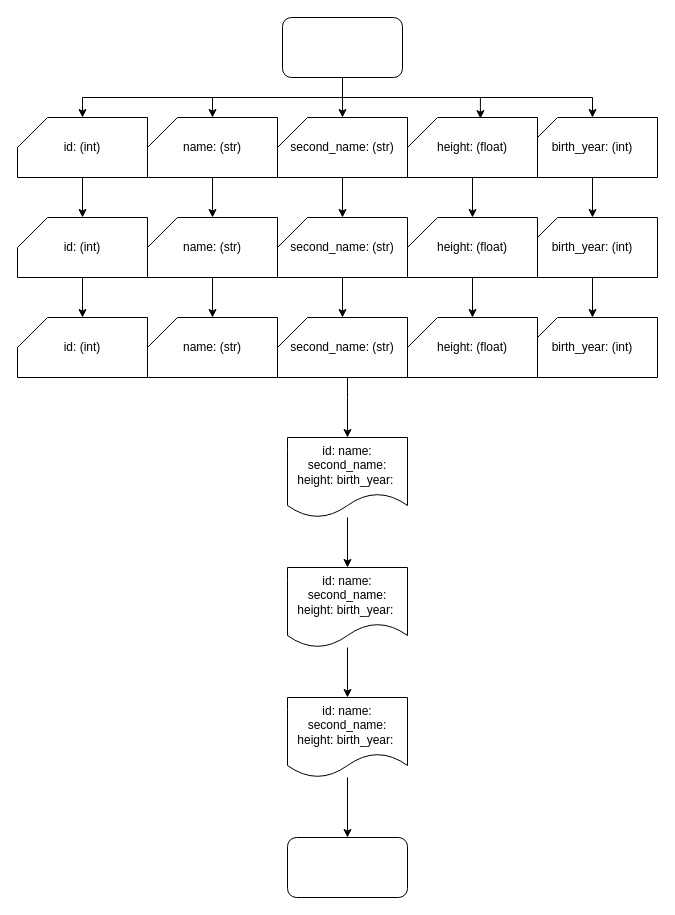
Image size: 675x915. Some labels were removed from this diagram. The box of each missing label's shape, as (x1, y1, x2, y2) in pixels:
End: (286, 836, 408, 898)
Start: (282, 16, 402, 78)
